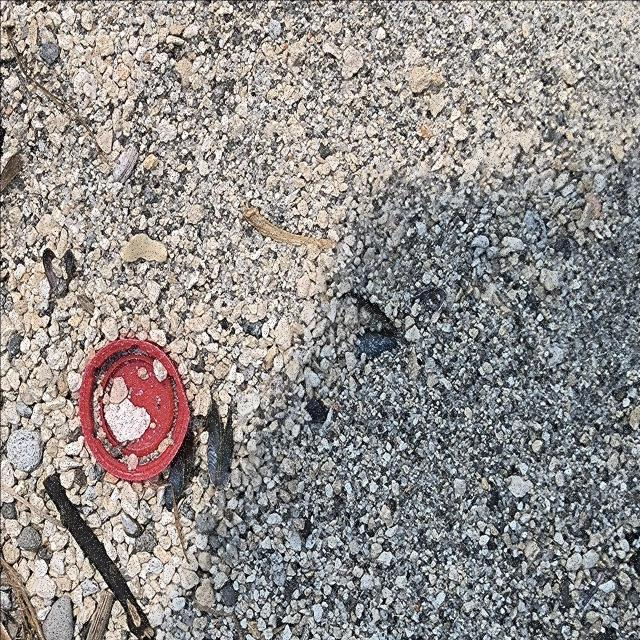plastic_waste: (79, 338, 191, 484)
